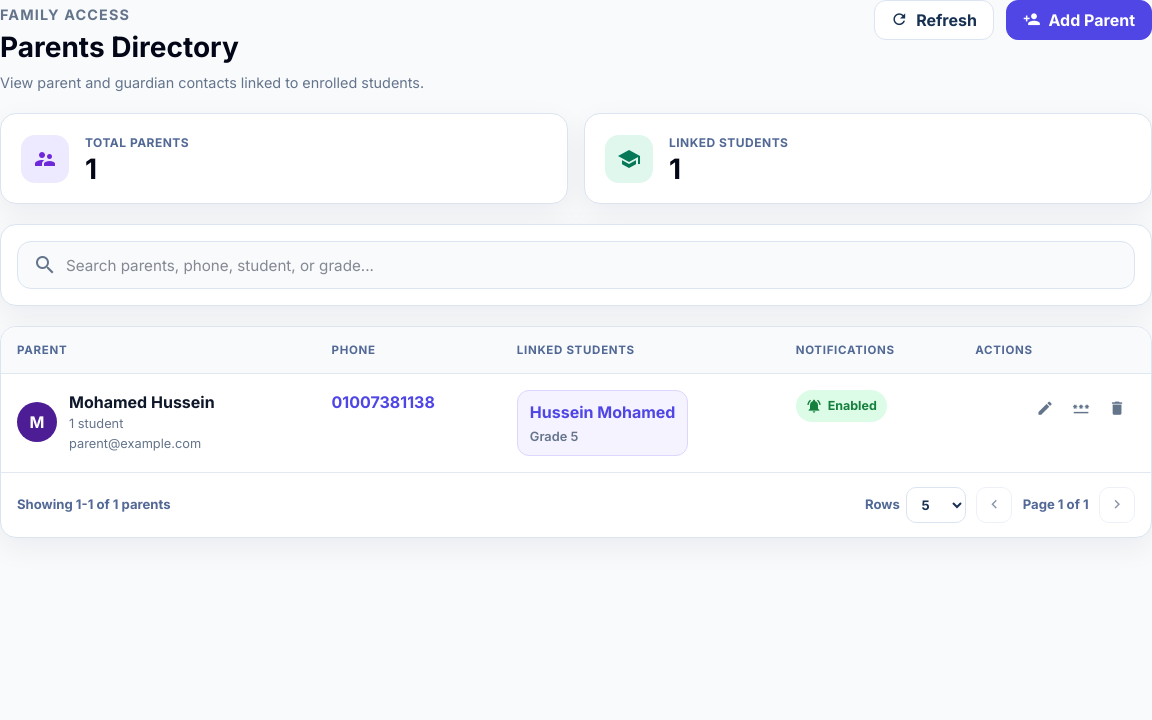
Test: TenantParentsComponent › opens the add parent modal from the header action
The image size is (1152, 720).
Click the button with class "tenant-parents-add": point(1079, 20) left=1006, top=0, right=1151, bottom=40
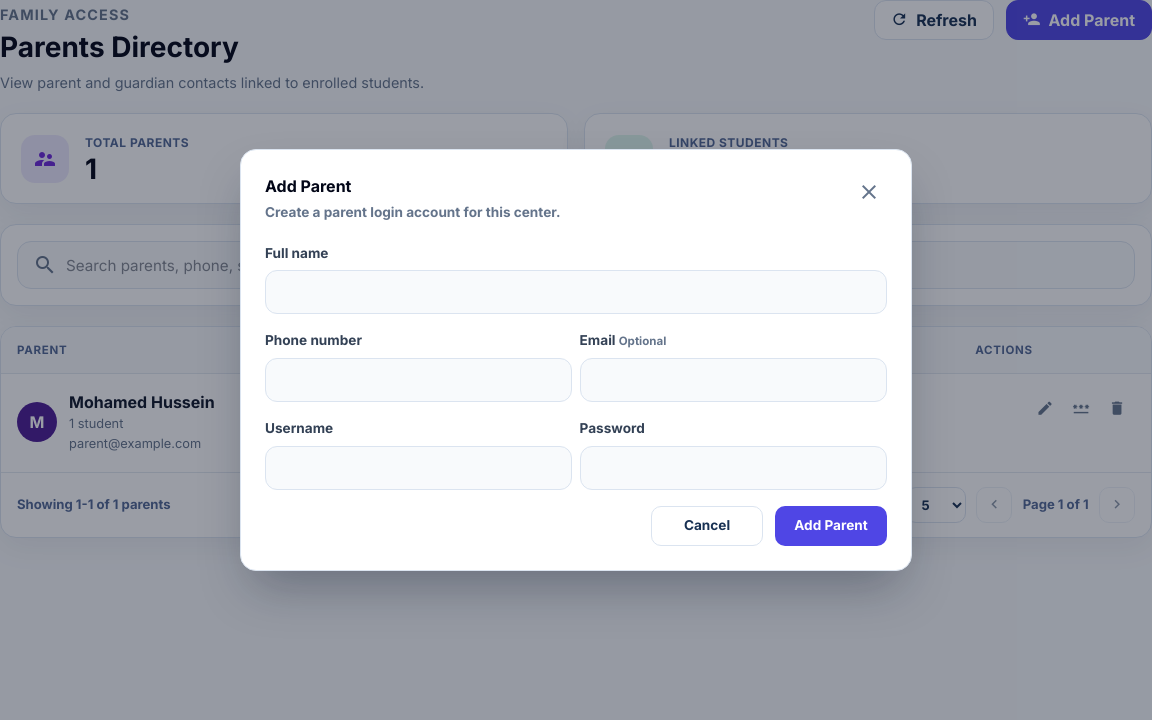
Check: the field labelled "Full name" is shown, box left=265, top=270, right=887, bottom=314
Check: the field labelled "Username" is shown, box left=265, top=446, right=572, bottom=490
Check: the password field labelled "Password" is shown, box left=580, top=446, right=887, bottom=490
